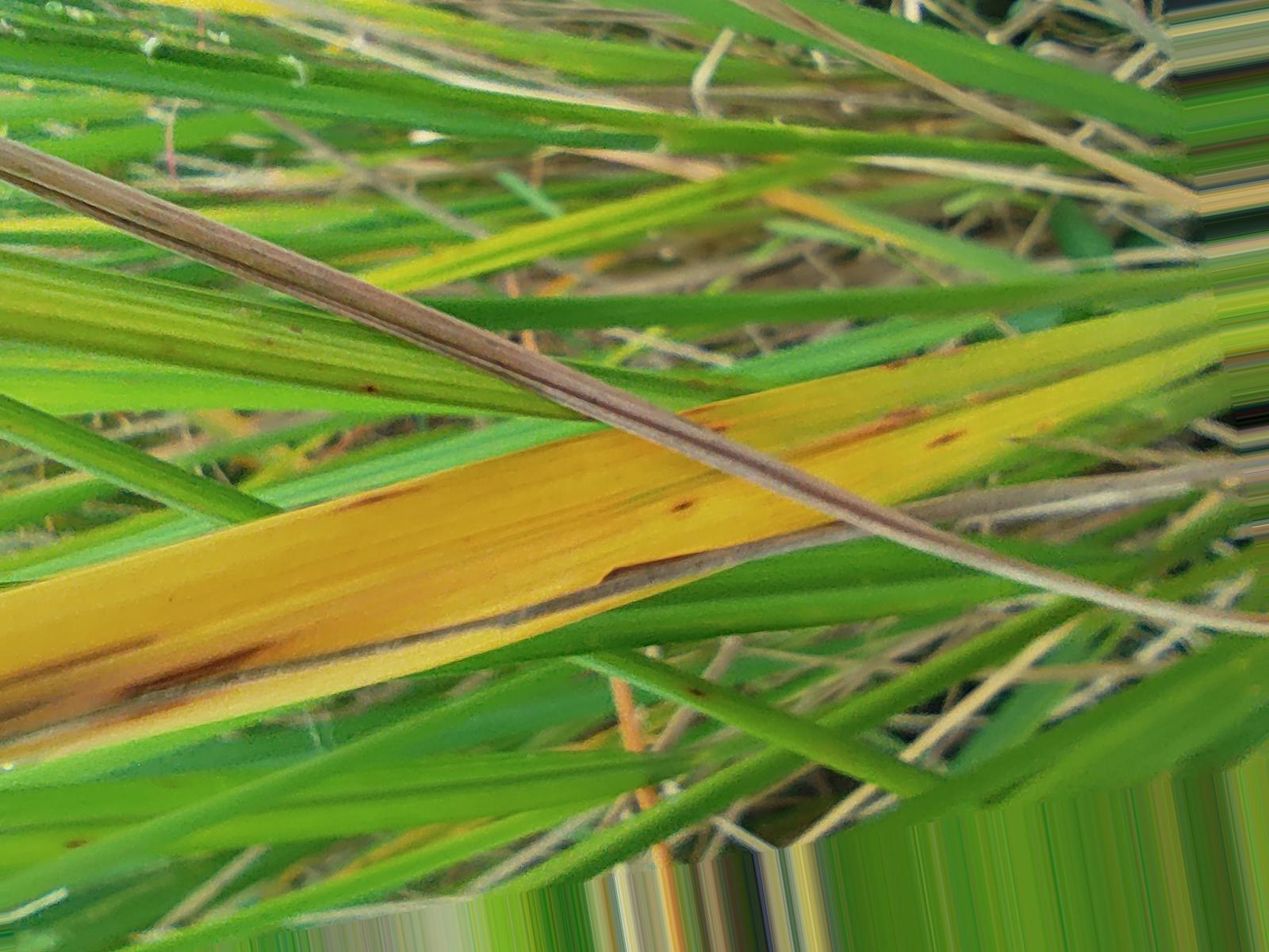LEAF: (0, 428, 860, 764), (668, 294, 1224, 505)
NBS: (115, 640, 272, 699), (0, 635, 162, 691), (334, 487, 423, 511), (0, 703, 49, 722), (926, 429, 968, 447), (678, 404, 716, 418), (670, 498, 698, 515), (882, 409, 922, 419), (885, 361, 913, 368)
